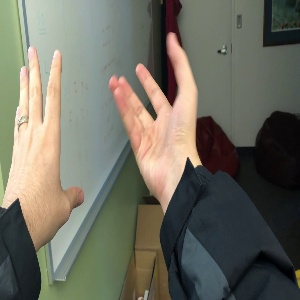hand: (109, 32, 202, 193), (6, 45, 84, 227)
